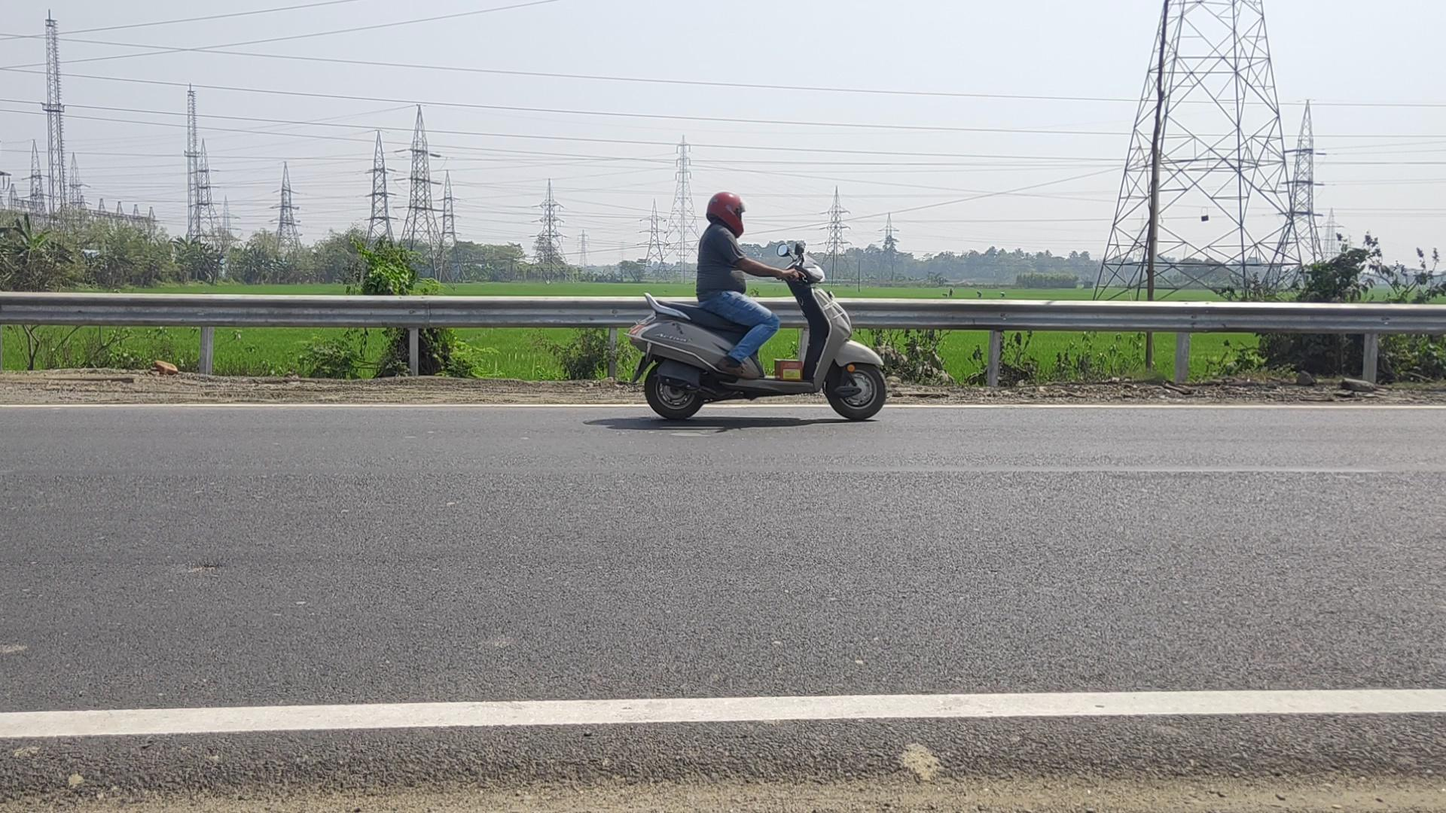bike: (626, 192, 888, 422)
